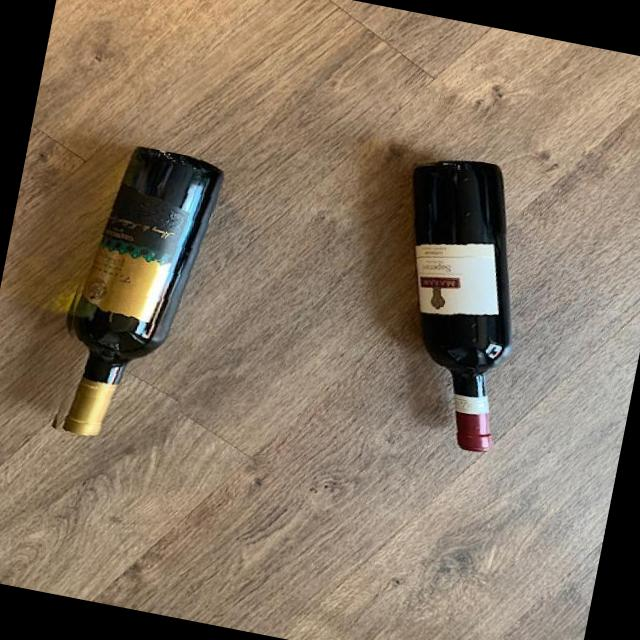Glass: (44, 139, 227, 454), (363, 150, 548, 456)
